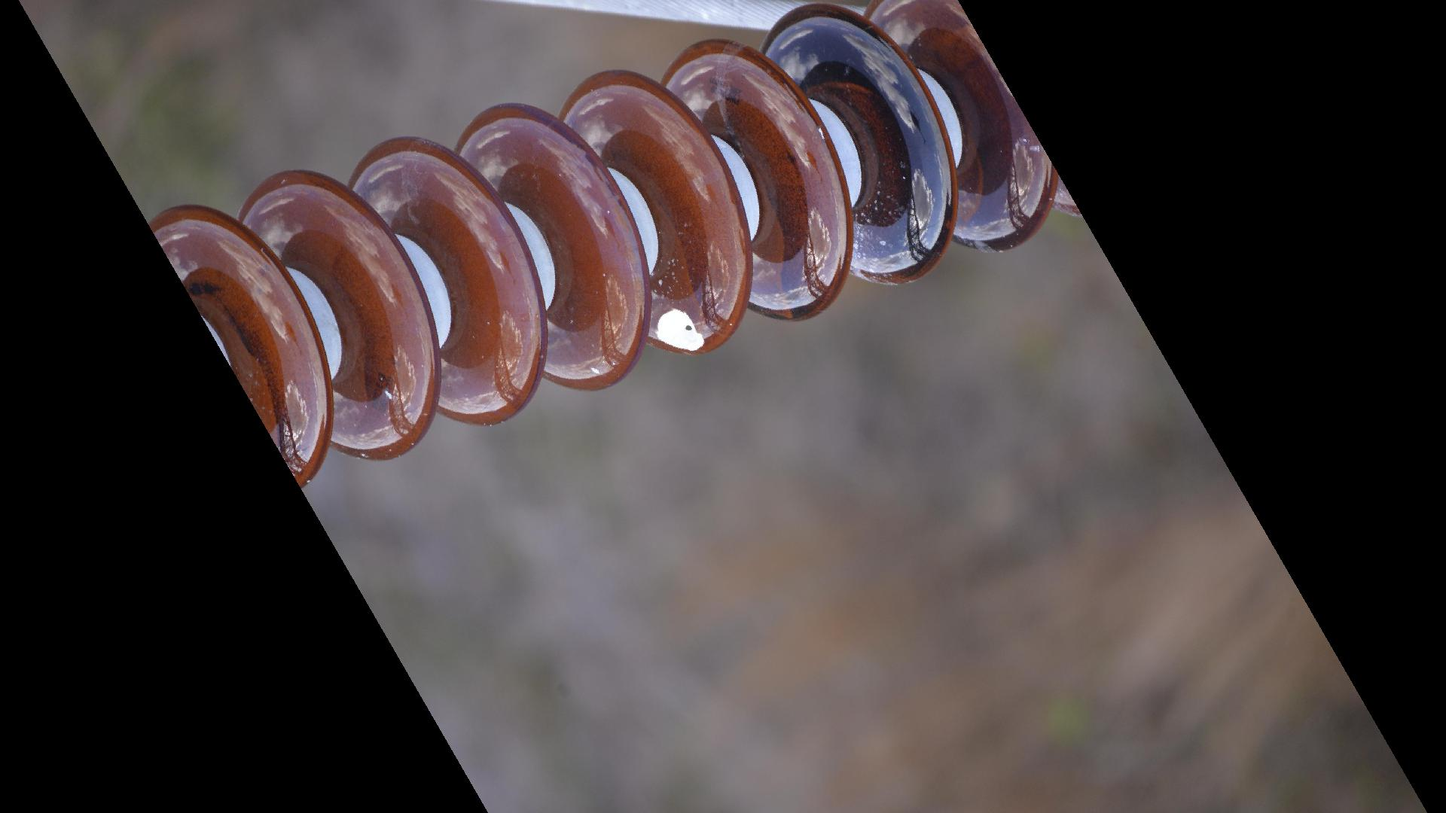insulator: (145, 1, 1097, 496)
insulator_breakage: (639, 282, 721, 364)
